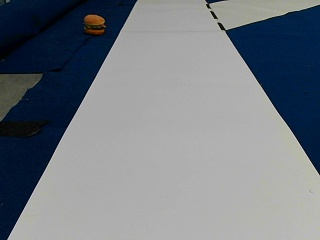burger: (83, 12, 106, 34)
